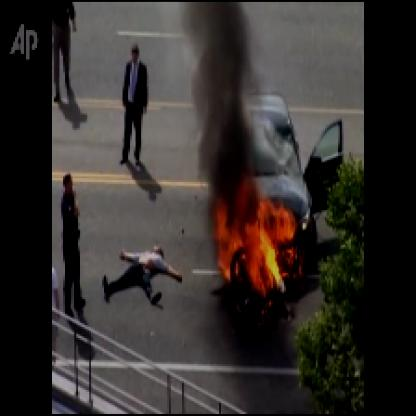Fire: (210, 171, 306, 308)
Smoke: (186, 2, 260, 210)
